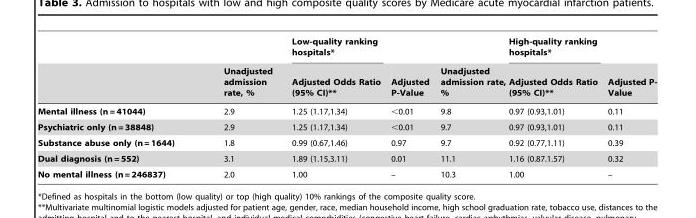table: (36, 36, 656, 178)
table column: (36, 36, 198, 178), (281, 36, 385, 178), (506, 36, 601, 178), (198, 36, 281, 178), (434, 36, 506, 178), (601, 36, 656, 178), (385, 36, 434, 178)
table column header: (36, 36, 656, 101)
table row: (36, 61, 656, 101), (36, 36, 656, 61), (36, 101, 656, 119), (36, 134, 656, 150), (36, 150, 656, 166), (36, 119, 656, 134), (36, 166, 656, 178)
table spanning cell: (281, 36, 385, 101), (506, 36, 601, 101), (198, 36, 281, 101), (434, 36, 506, 101), (601, 36, 656, 101), (385, 36, 434, 101)
